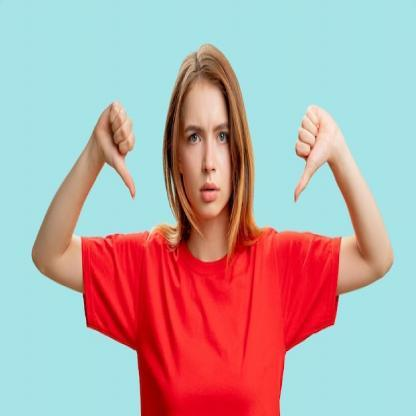thumb_down: (93, 100, 144, 200), (293, 102, 337, 208)
